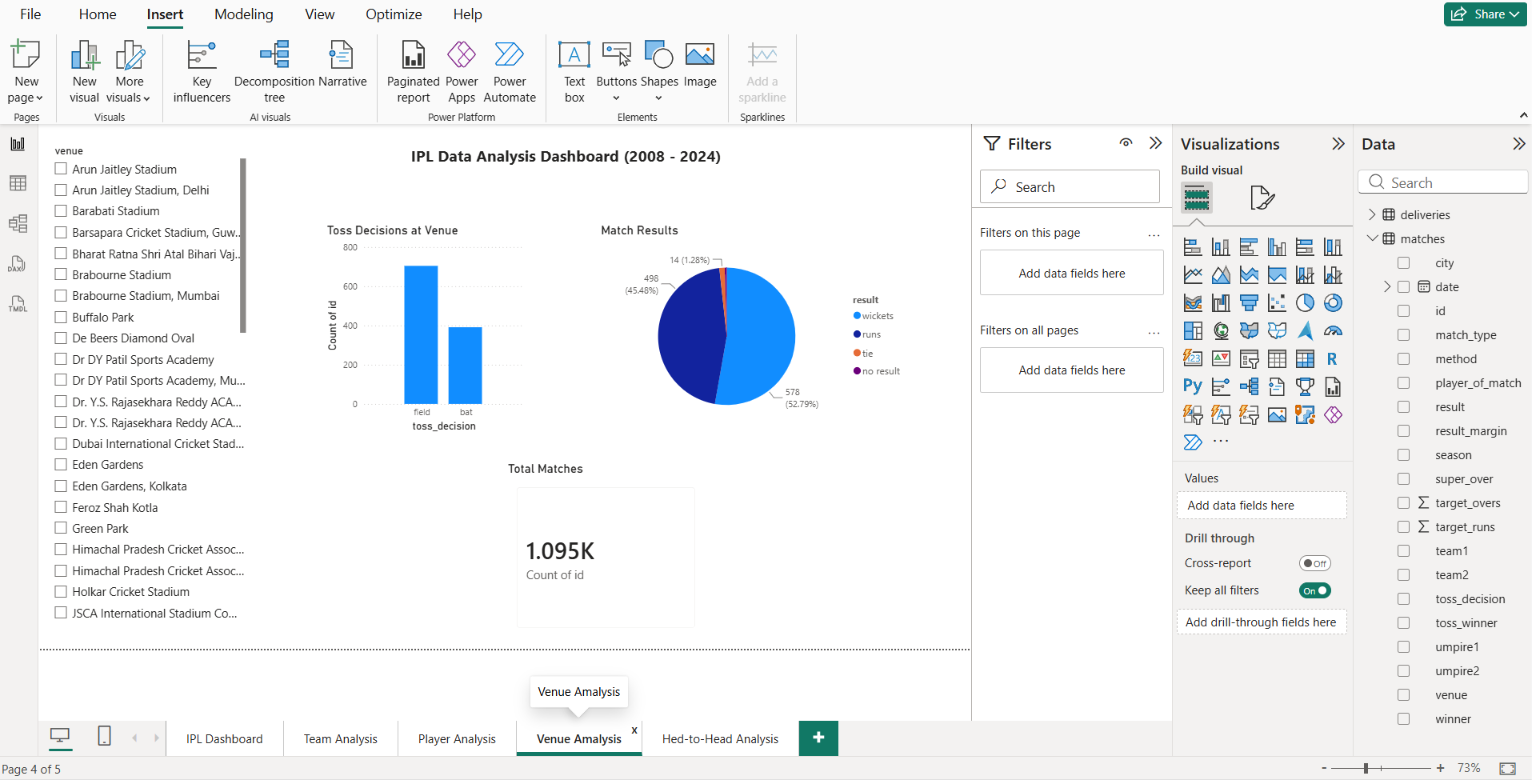

The page's visual inventory and layout, read from the dashboard file:
{"tool":"powerbi","page":{"name":"Venue Amalysis","canvas":[1280,720],"ordinal":3},"visuals":[{"type":"slicer","fields":{"Values":["matches.venue"]},"box":[9.6,23.3,279.9,664.2],"z":0},{"type":"cardVisual","title":"Total Matches","fields":{"Data":["CountNonNull(matches.id)"]},"box":[639.5,462.4,279.9,247],"z":1000},{"type":"clusteredColumnChart","title":"Toss Decisions at Venue","fields":{"Category":["matches.toss_decision"],"Y":["CountNonNull(matches.id)"]},"box":[391.1,135.8,279.9,292.3],"z":2000},{"type":"pieChart","title":"Match Results","fields":{"Category":["matches.result"],"Y":["CountNonNull(matches.id)"]},"box":[767.1,135.8,429.5,292.3],"z":2001},{"type":"textbox","box":[506.3,23.3,455.6,57.6],"z":2002}]}

Visuals, with their boxes on the page's 1280x720 design canvas (x1, y1, x2, y2). These are canvas units, not pixel positions in the 1532x780 screenshot, which may show the page scaled, cropped or inside an application window:
slicer - matches.venue: 10 23 290 688
"Total Matches" cardVisual: 640 462 919 709
"Toss Decisions at Venue" clusteredColumnChart: 391 136 671 428
"Match Results" pieChart: 767 136 1197 428
textbox: 506 23 962 81
